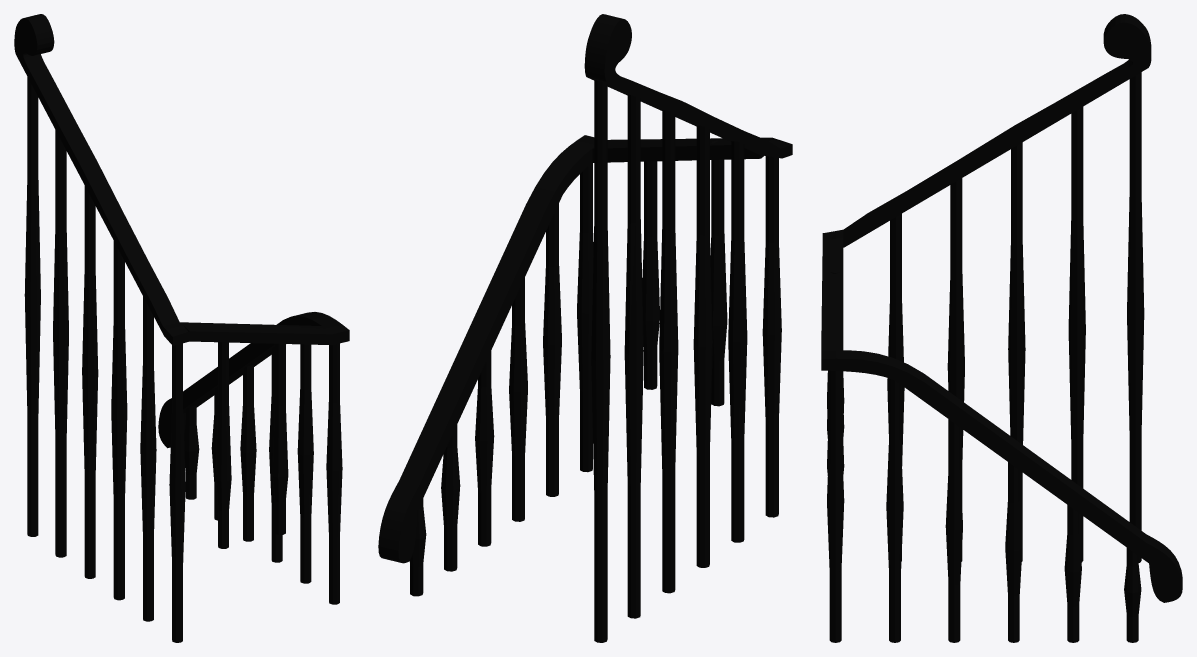
File: strcase.glb
The picture shows the model from 3 angles, left to right: view 1: azimuth 30°, elevation 25°; view 2: azimuth 150°, elevation 25°; view 3: azimuth 270°, elevation 25°; orthographic projection. The views are drawn at different scales.
Parts seen in each view (by area): view 1: strcase; view 2: strcase; view 3: strcase.
Boxes of the visible parts, x1=… form: strcase: x1=14, y1=14, x2=349, y2=642; strcase: x1=378, y1=14, x2=792, y2=642; strcase: x1=821, y1=14, x2=1182, y2=642.
Size of the model in its own units: 104 by 295 by 179.
1 material, 1 textured.
